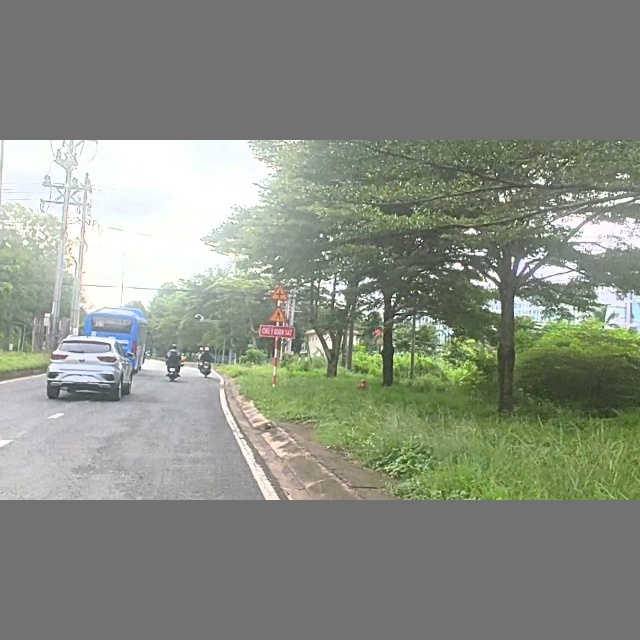W.205a: (270, 283, 289, 301)
W.224: (268, 304, 292, 323)
